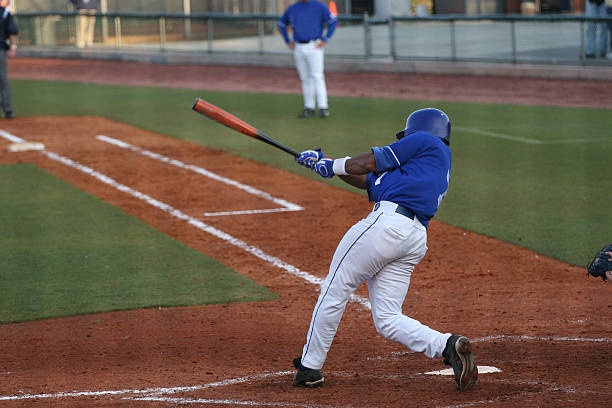bita: (193, 98, 306, 160)
